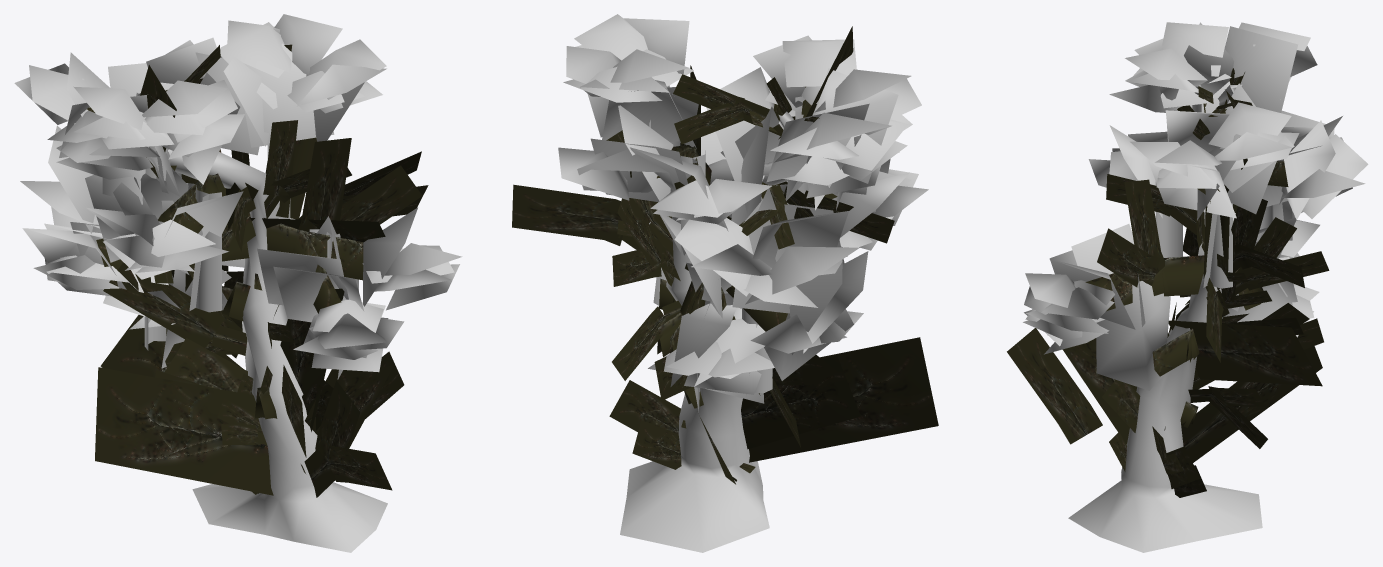
The model's file is tree7.FBX.
3 renders of one model, left to right at view 1: azimuth 30°, elevation 25°; view 2: azimuth 150°, elevation 25°; view 3: azimuth 270°, elevation 25°, orthographic. The views are drawn at different scales.
Visible parts, largest first — view 1: Tree7; view 2: Tree7; view 3: Tree7.
Boxes of the visible parts, x1,y1,x2,y2 form: Tree7: (14, 14, 462, 552); Tree7: (512, 14, 938, 552); Tree7: (1007, 22, 1368, 552).
Size of the model in its own units: 274 by 336 by 278.
